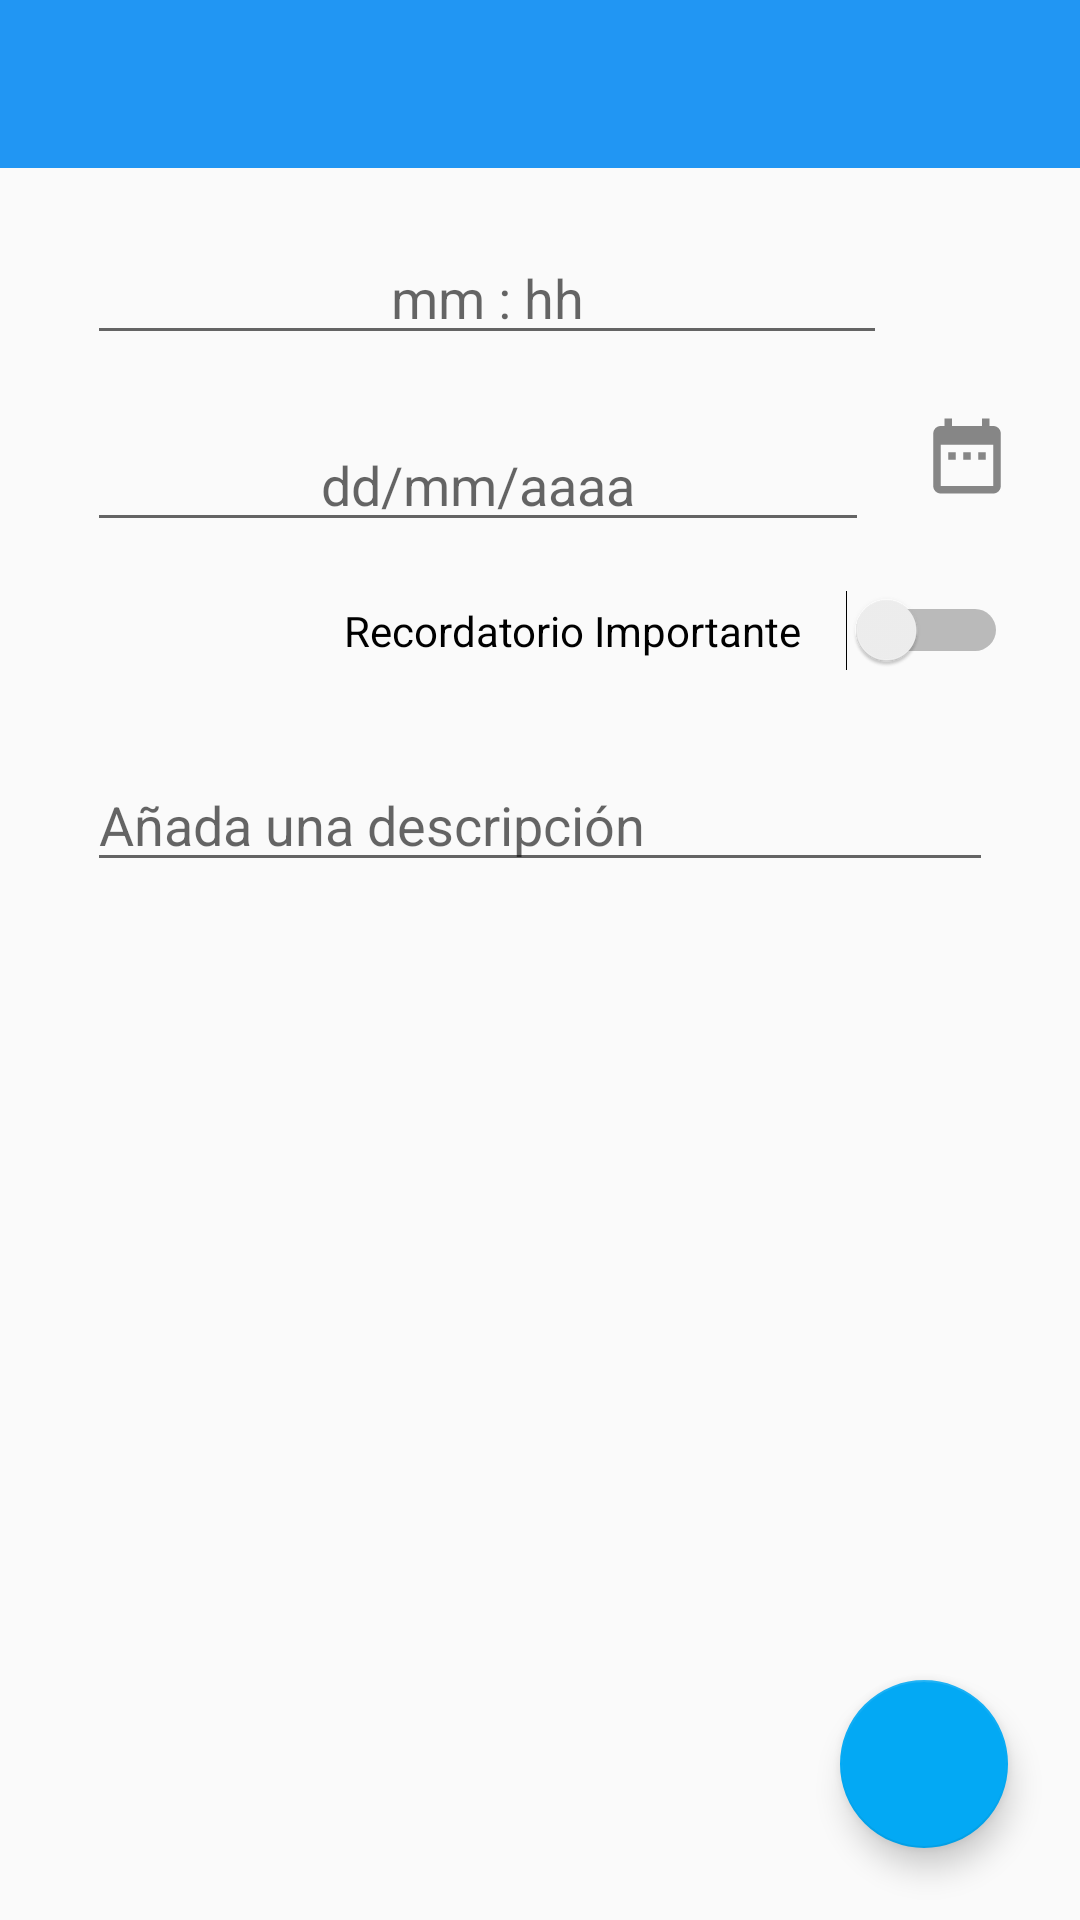

Point at icon controls on the screen. Image size 1080 × 1920, points as point (x, y).
date: point (967, 456)
